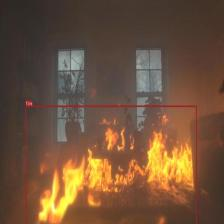fire: (25, 105, 197, 224)
